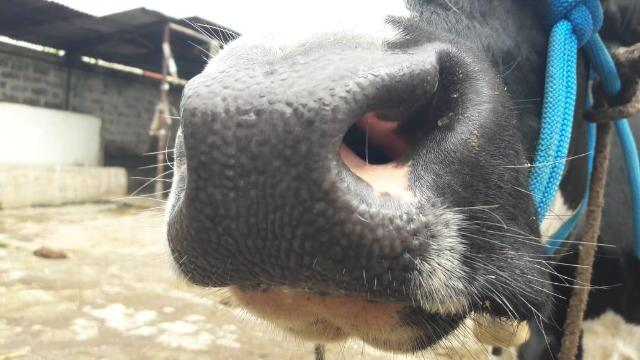Muzzle: (196, 82, 330, 278)
